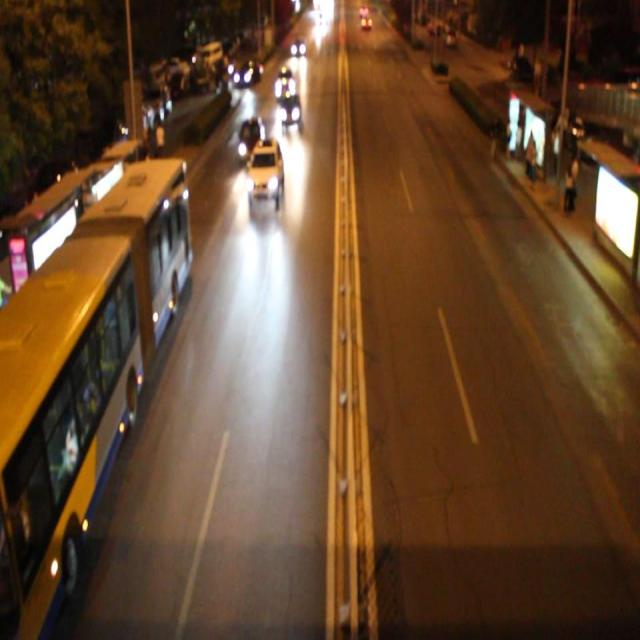car: (247, 138, 283, 205), (237, 116, 267, 161), (278, 90, 300, 128), (274, 67, 295, 101)
van: (0, 157, 188, 640)
